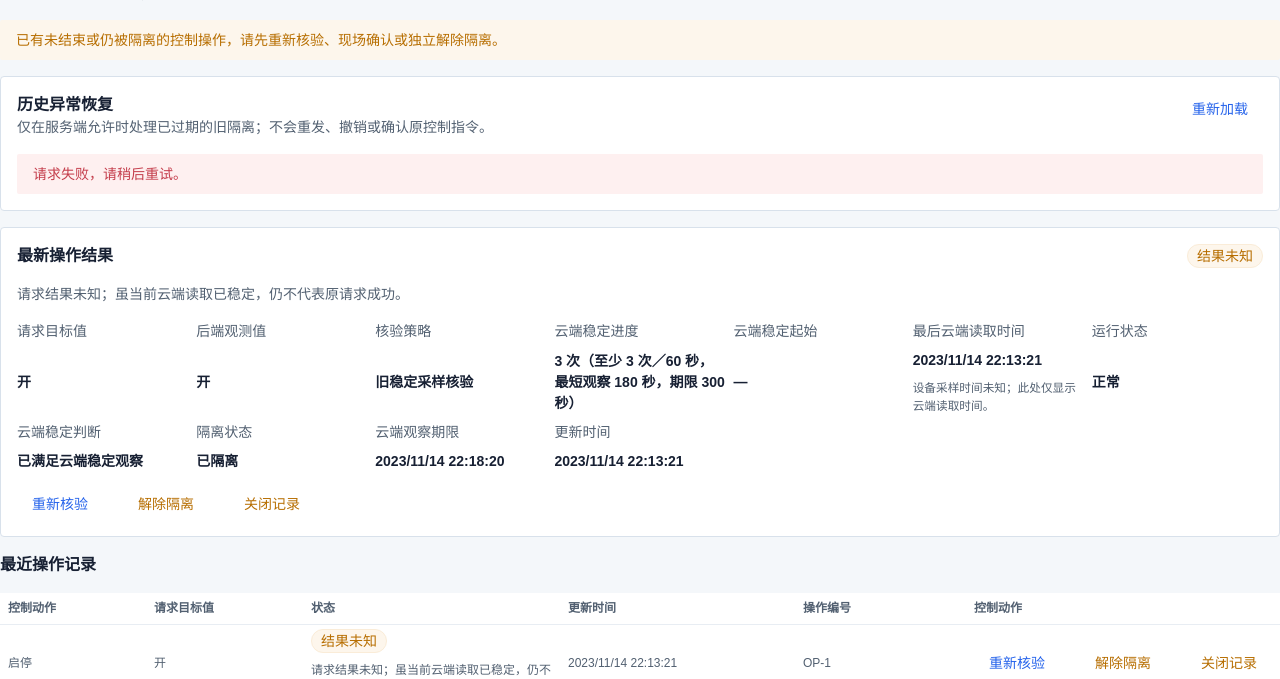
Scenario: 大金内机离线控制面板 › 未知记录仍须人工关闭，关闭不会解除隔离且不需要确认勾选
This screenshot has width=1280, height=679.
Click the button "关闭记录" below "已满足云端稳定观察" at (272, 504), box [229,488,315,520]
(page scrolled)
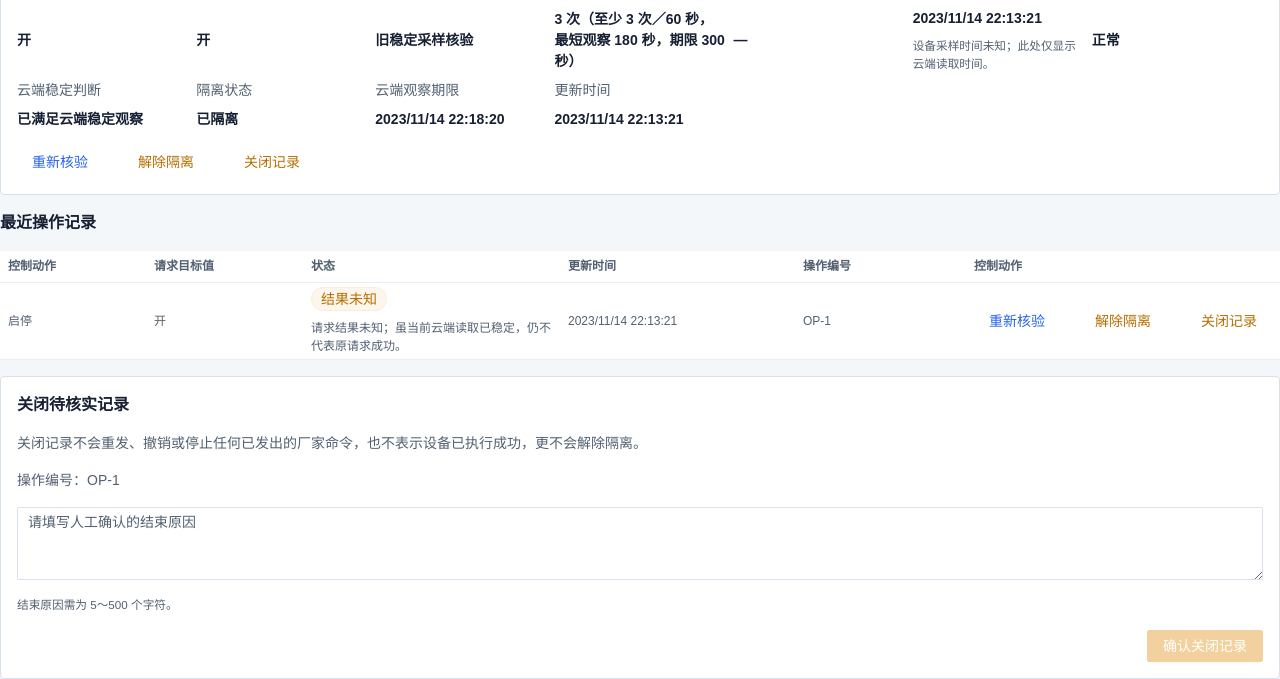
Type "人工核验结束" into the text box with placeholder "请填写人工确认的结束原因" at (640, 544), box [17,507,1263,580]
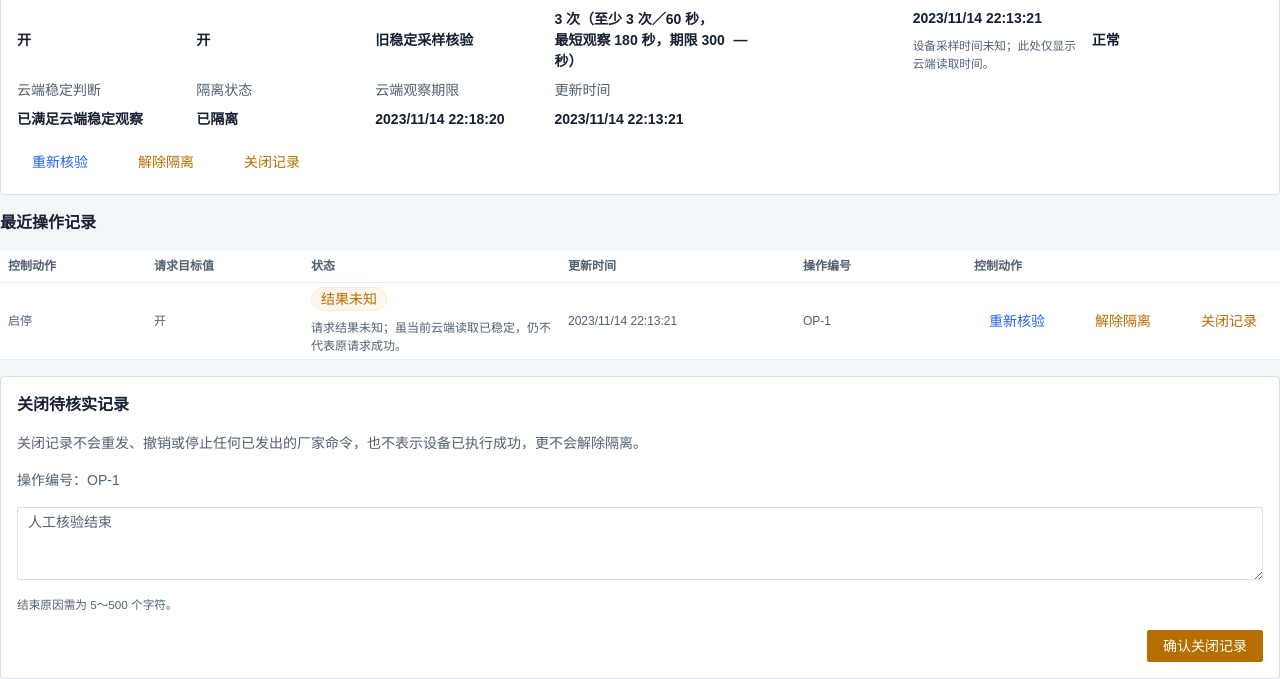
Now the button "确认关闭记录" is enabled
Click the button "确认关闭记录" at (1205, 646), box [1147,630,1263,662]
(page scrolled)
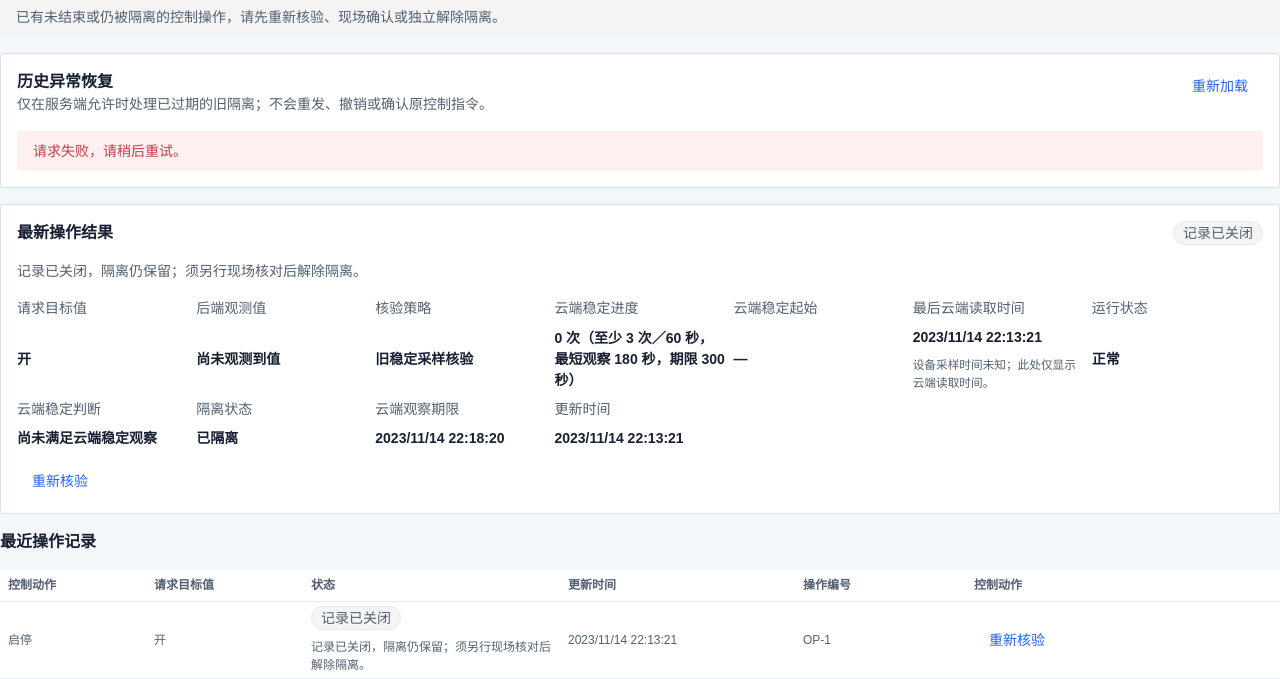
Now the text "隔离仍保留" is shown, box [17,263,367,279]
